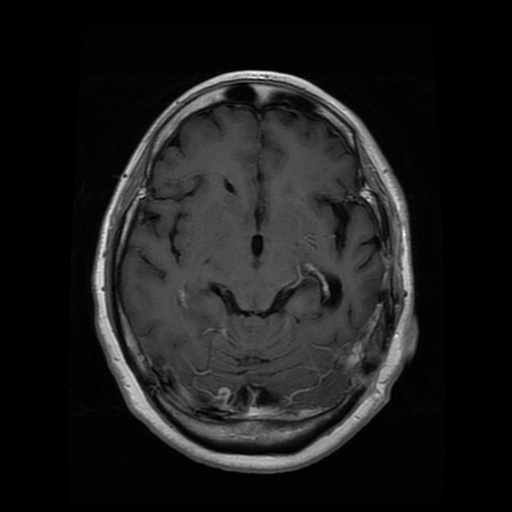glioma: (291, 301, 384, 404)
